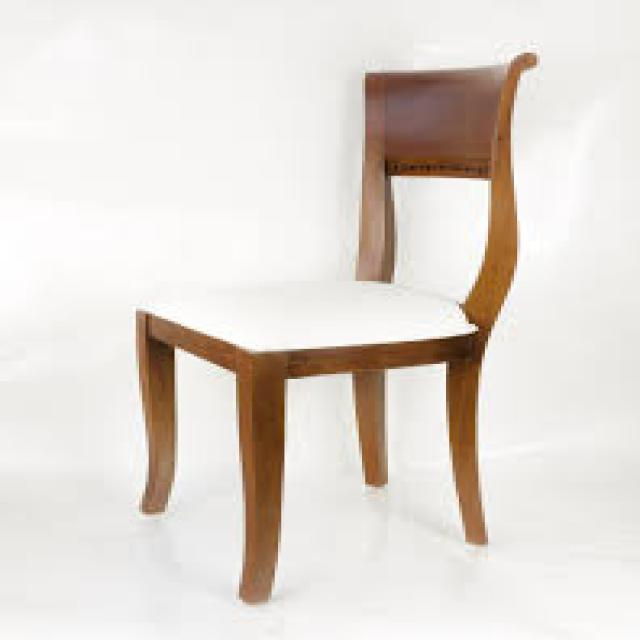bottle: (128, 51, 536, 604)
